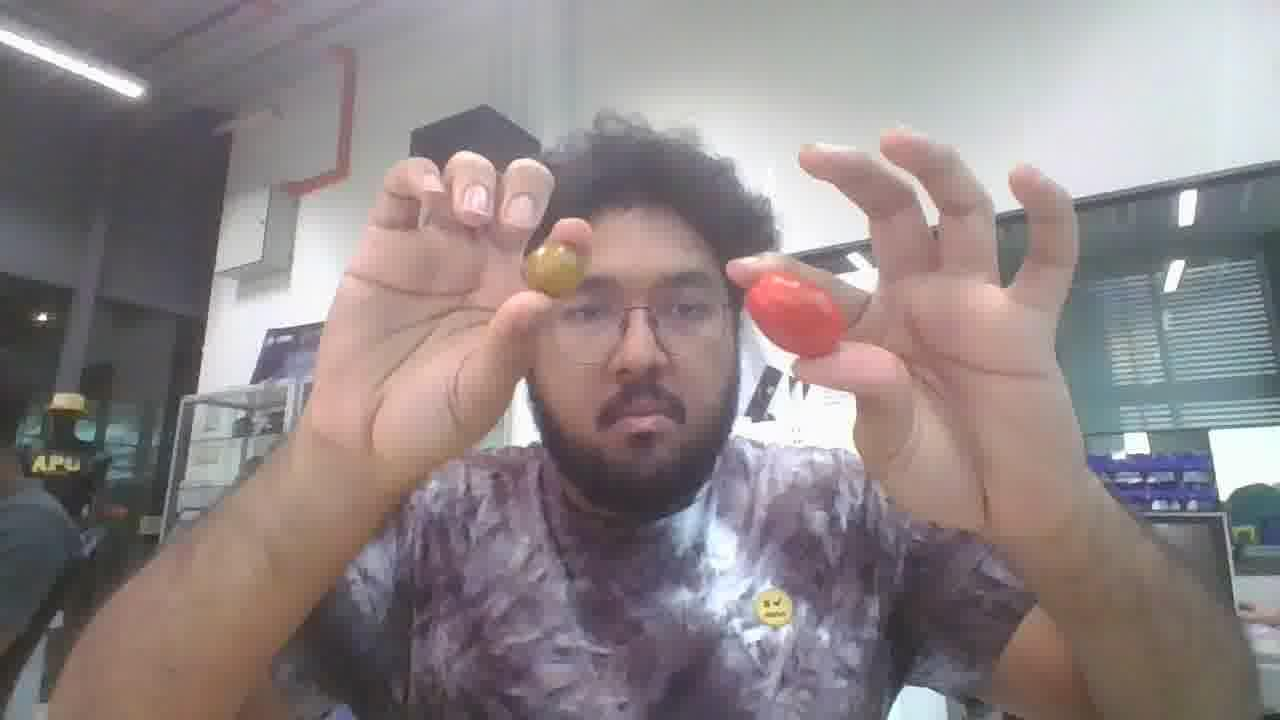red_cherry_tomato: (745, 272, 846, 357)
yellow_cherry_tomato: (524, 243, 586, 297)
